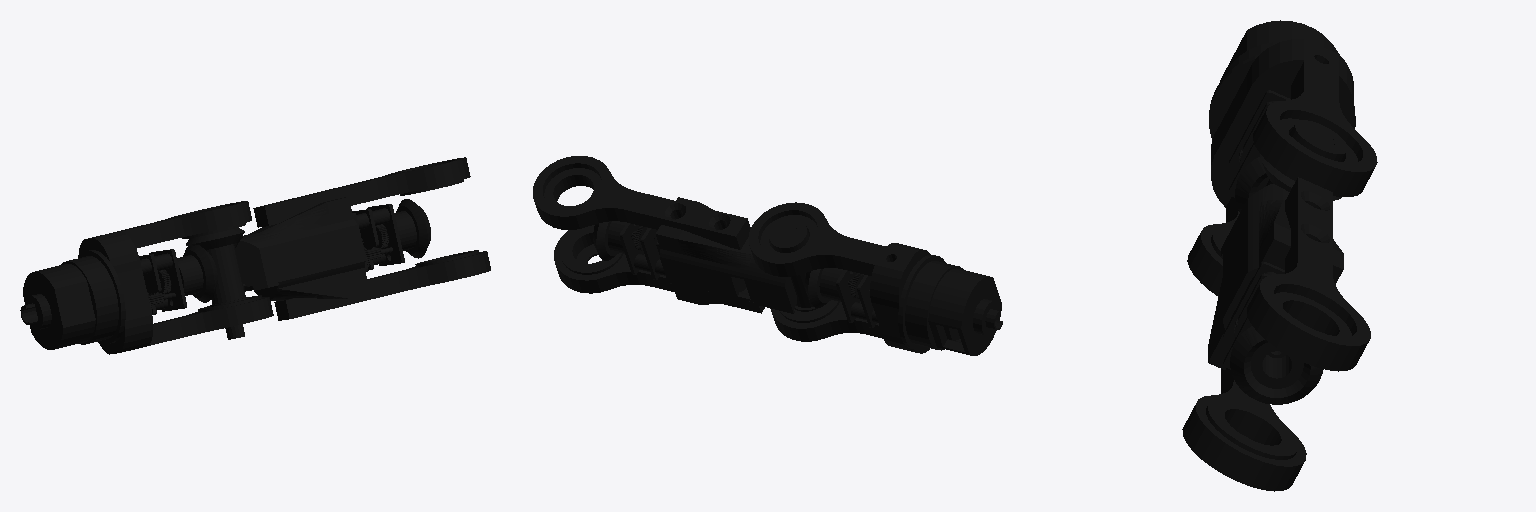
URDF robot description (robot_hand_2):
<robot
  name="robot_hand_2">
  <link
    name="base_link">
    <inertial>
      <origin
        xyz="0.0165545450435012 -0.0675519534825143 0.0551699672725438"
        rpy="0 0 0" />
      <mass
        value="0.14112771415944" />
      <inertia
        ixx="9.77781538334822E-05"
        ixy="-4.68047592445247E-09"
        ixz="-9.9251400712229E-06"
        iyy="0.000112859815970869"
        iyz="-7.23848447491276E-08"
        izz="4.73899241412088E-05" />
    </inertial>
    <visual>
      <origin
        xyz="0 0 0"
        rpy="0 0 0" />
      <geometry>
        <mesh
          filename="package://robot_hand_2/meshes/base_link.STL" />
      </geometry>
      <material
        name="">
        <color
          rgba="0.792156862745098 0.819607843137255 0.933333333333333 1" />
      </material>
    </visual>
    <collision>
      <origin
        xyz="0 0 0"
        rpy="0 0 0" />
      <geometry>
        <mesh
          filename="package://robot_hand_2/meshes/base_link.STL" />
      </geometry>
    </collision>
  </link>
  <link
    name="thumb_meta">
    <inertial>
      <origin
        xyz="1.99885584290863E-05 0.0274753594946916 3.11523535328345E-05"
        rpy="0 0 0" />
      <mass
        value="0.0120616204231855" />
      <inertia
        ixx="1.74601912220389E-06"
        ixy="-6.03789807030541E-09"
        ixz="5.80816723565896E-10"
        iyy="4.01364324711719E-07"
        iyz="7.34091845896723E-09"
        izz="2.14539224199729E-06" />
    </inertial>
    <visual>
      <origin
        xyz="0 0 0"
        rpy="0 0 0" />
      <geometry>
        <mesh
          filename="package://robot_hand_2/meshes/thumb_meta.STL" />
      </geometry>
      <material
        name="">
        <color
          rgba="0.109803921568627 0.109803921568627 0.109803921568627 1" />
      </material>
    </visual>
    <collision>
      <origin
        xyz="0 0 0"
        rpy="0 0 0" />
      <geometry>
        <mesh
          filename="package://robot_hand_2/meshes/thumb_meta.STL" />
      </geometry>
    </collision>
  </link>
  <joint
    name="base_to_thumb"
    type="continuous">
    <origin
      xyz="0.023209760005139 -0.0675469356726254 0.0198747840085588"
      rpy="0 1.12023021500415 -1.5707963267949" />
    <parent
      link="base_link" />
    <child
      link="thumb_meta" />
    <axis
      xyz="0 1 0" />
  </joint>
  <link
    name="thumb_prox">
    <inertial>
      <origin
        xyz="-0.00044913745032139 -2.31628824276242E-05 0.0206126250095581"
        rpy="0 0 0" />
      <mass
        value="0.0202607227265754" />
      <inertia
        ixx="7.97832295599946E-06"
        ixy="-1.13669461870208E-09"
        ixz="5.03469939308632E-07"
        iyy="8.58936112642717E-06"
        iyz="-1.97120922562684E-09"
        izz="6.1306893246727E-07" />
    </inertial>
    <visual>
      <origin
        xyz="0 0 0"
        rpy="0 0 0" />
      <geometry>
        <mesh
          filename="package://robot_hand_2/meshes/thumb_prox.STL" />
      </geometry>
      <material
        name="">
        <color
          rgba="0.109803921568627 0.109803921568627 0.109803921568627 1" />
      </material>
    </visual>
    <collision>
      <origin
        xyz="0 0 0"
        rpy="0 0 0" />
      <geometry>
        <mesh
          filename="package://robot_hand_2/meshes/thumb_prox.STL" />
      </geometry>
    </collision>
  </link>
  <joint
    name="thumb_meta-to_prox"
    type="continuous">
    <origin
      xyz="0 0.0410000000000158 0"
      rpy="1.70910549048477 -4.44089209850063E-16 3.14159265358979" />
    <parent
      link="thumb_meta" />
    <child
      link="thumb_prox" />
    <axis
      xyz="1 0 0" />
  </joint>
</robot>

--- Facts derived from the render (not from the file) ---
The picture shows the robot from 3 angles, left to right: view 1: azimuth 30°, elevation 25°; view 2: azimuth 150°, elevation 25°; view 3: azimuth 270°, elevation 25°; orthographic projection.
Robot: robot_hand_2 — 3 links, 2 joints (2 continuous); root link base_link; default pose: all joints at 0.
Visible links, largest first — view 1: thumb_prox, thumb_meta; view 2: thumb_prox, thumb_meta; view 3: thumb_prox, thumb_meta.
Boxes of the visible links, left/top/right/bottom form: thumb_prox: left=186, top=157, right=490, bottom=339; thumb_meta: left=20, top=201, right=273, bottom=354; thumb_prox: left=533, top=156, right=817, bottom=313; thumb_meta: left=748, top=202, right=1002, bottom=355; thumb_prox: left=1182, top=120, right=1370, bottom=491; thumb_meta: left=1187, top=20, right=1377, bottom=296.
Bounding box of the posed robot: 0.1025 × 0.0252 × 0.0294 m (x, y, z).
2 mesh visuals loaded from 3 distinct referenced files (2 binary STL); not drawn: 1 (reference not matched to a file when rendering).